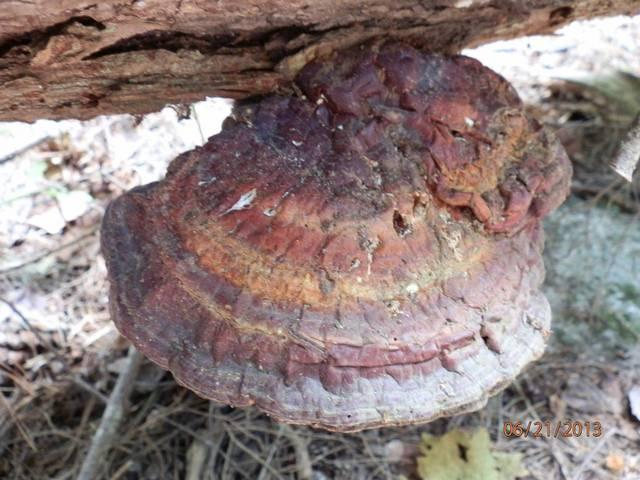poisonous_mushroom: (98, 37, 574, 434)
